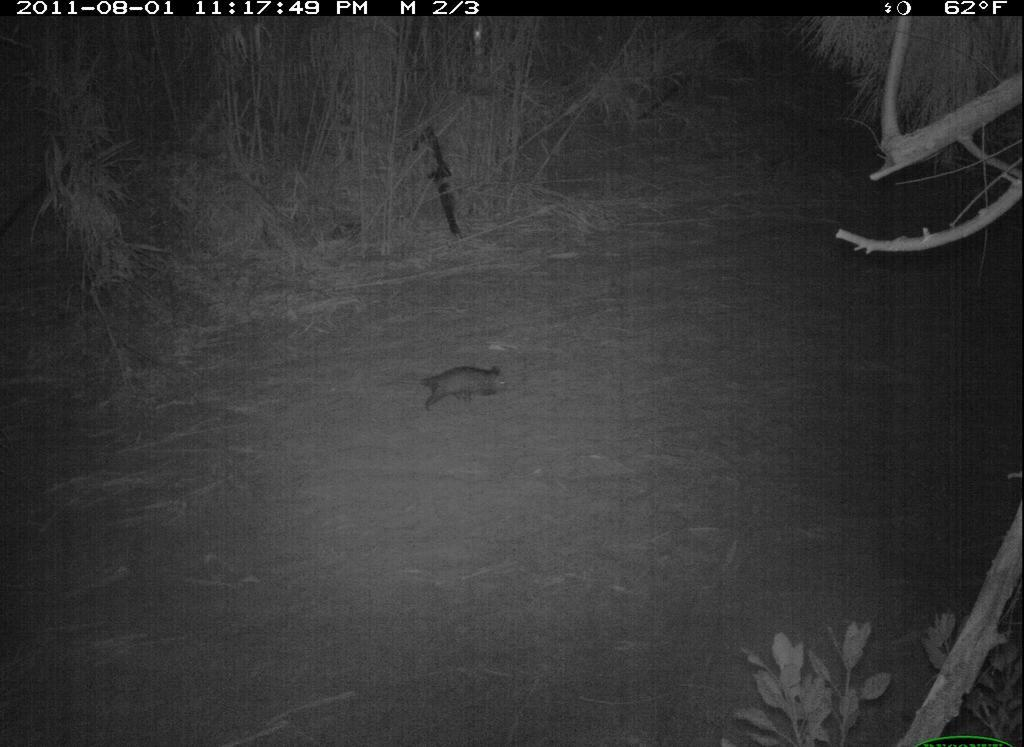opossum: (415, 354, 521, 427)
